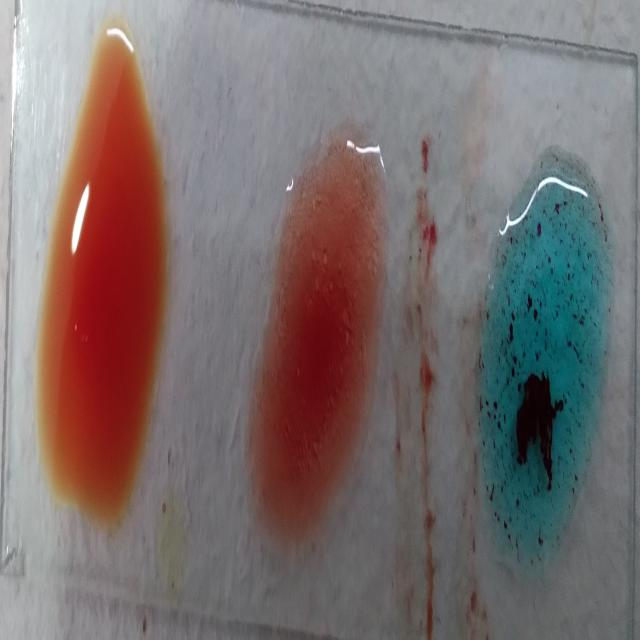A: (484, 159, 606, 567)
D: (260, 150, 376, 545)
